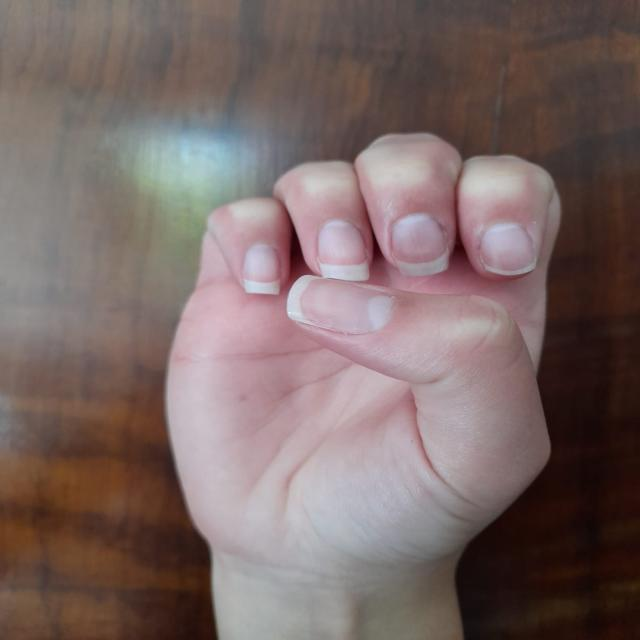E: (128, 128, 584, 616)
